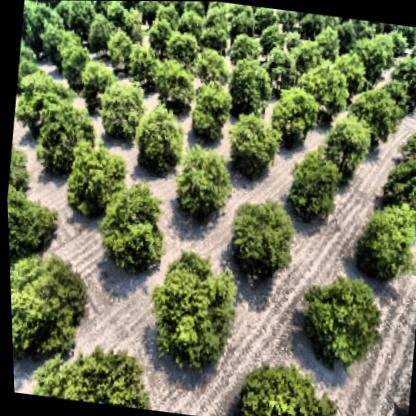tree-top: (143, 247, 236, 377), (7, 243, 80, 355), (294, 275, 379, 370), (23, 346, 142, 408), (23, 99, 104, 177), (346, 199, 416, 285), (93, 179, 164, 260), (228, 361, 328, 416), (222, 201, 290, 273), (281, 157, 347, 231), (171, 145, 235, 218), (62, 144, 127, 208), (6, 198, 64, 264), (320, 106, 373, 172), (11, 64, 66, 126), (265, 83, 317, 148), (126, 108, 180, 168), (226, 116, 285, 170), (95, 76, 142, 142), (226, 57, 269, 113), (75, 58, 114, 117), (152, 56, 193, 111), (378, 152, 416, 205), (56, 39, 97, 88), (121, 41, 162, 89), (38, 23, 83, 64), (188, 87, 225, 134), (306, 59, 345, 102), (333, 48, 368, 95), (4, 148, 30, 210), (354, 87, 396, 125), (22, 2, 58, 45), (192, 47, 226, 90), (226, 29, 262, 68), (353, 35, 388, 74), (163, 27, 196, 68), (80, 9, 113, 48), (52, 0, 93, 30), (311, 22, 344, 59), (392, 48, 416, 97), (258, 18, 287, 55), (198, 23, 232, 54), (176, 7, 204, 43), (107, 30, 131, 70), (146, 18, 174, 52), (156, 1, 180, 28), (102, 1, 127, 20), (134, 1, 158, 19)
